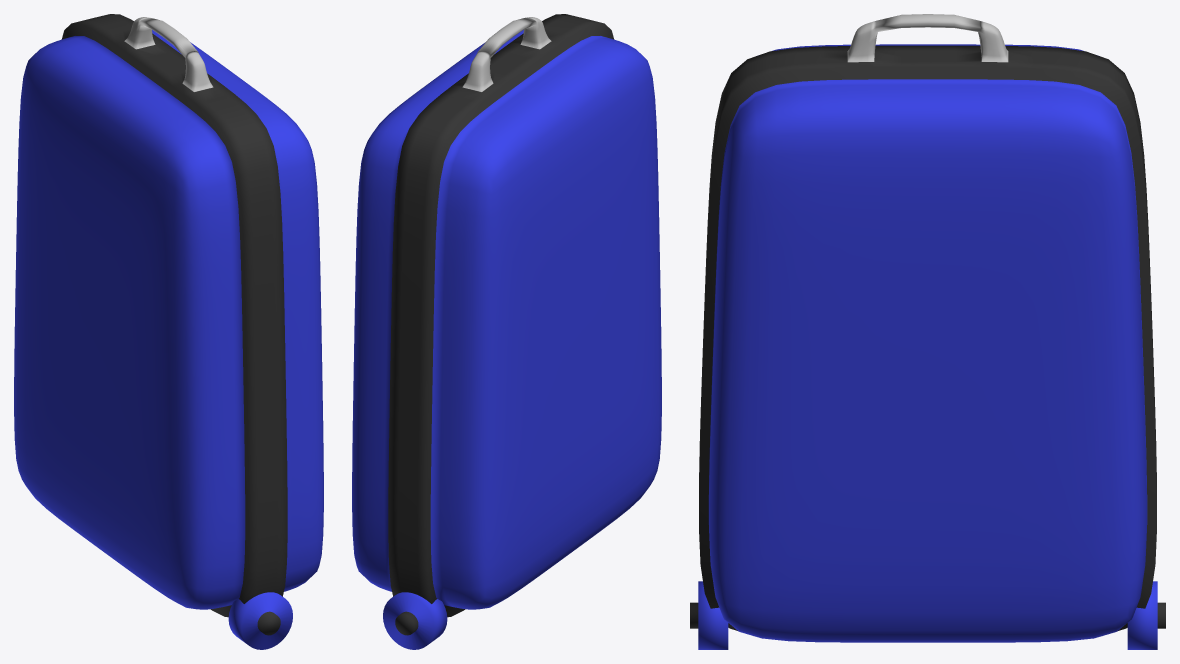
File: SuitCaseSmallBlue.fbx
The picture shows the model from 3 angles, left to right: view 1: azimuth 30°, elevation 25°; view 2: azimuth 150°, elevation 25°; view 3: azimuth 270°, elevation 25°; orthographic projection. The views are drawn at different scales.
Visible parts, largest first — view 1: Cylinder.004; view 2: Cylinder.004; view 3: Cylinder.004.
Part boxes in pixels (x1,y1,x2,y2): Cylinder.004: [14, 14, 323, 649]; Cylinder.004: [352, 14, 661, 649]; Cylinder.004: [690, 14, 1165, 649].
Size of the model in its own units: 30.46 by 107 by 72.71.
